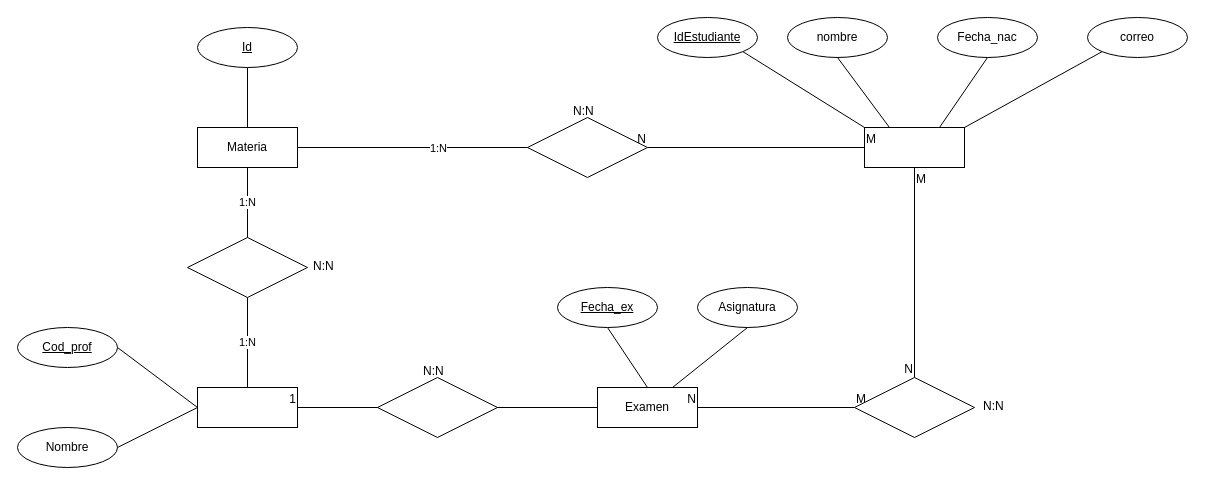
Some shapes in this 1205 by 485 pixel diagram are drawn without their labels. Here are the shapes that lost their labels. From the top down, the centre of each, then its label:
At point 587,147: "aprende".
At point 914,147: "Estudiante".
At point 247,267: "imparte".
At point 247,407: "Profesor".
At point 437,407: "Pone".
At point 914,407: "Realiza".
